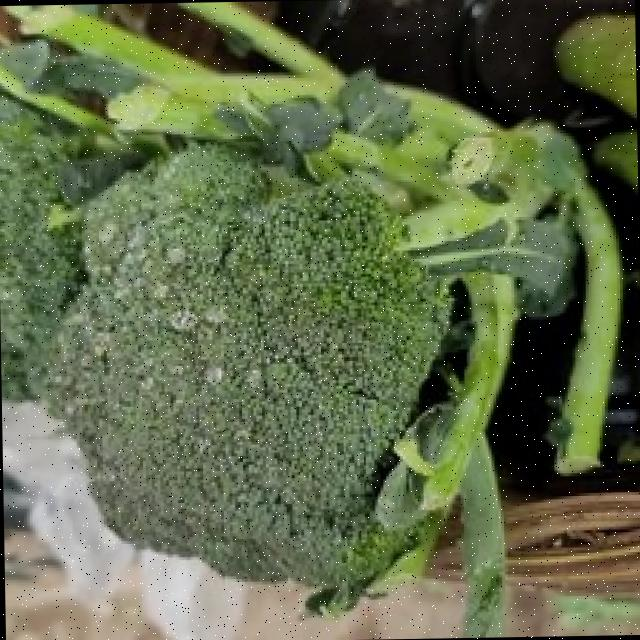Broccoli: (54, 146, 447, 582), (54, 147, 447, 583)
